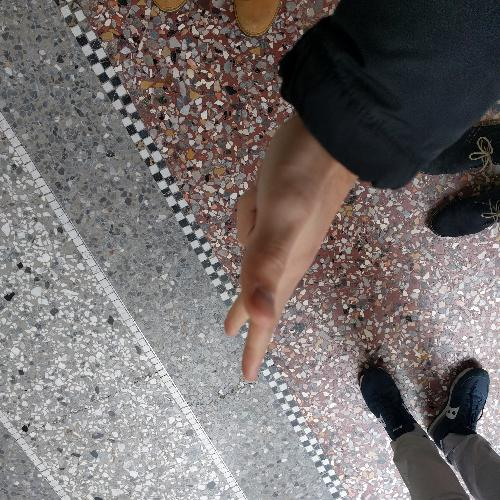scissors: (213, 91, 360, 388)
